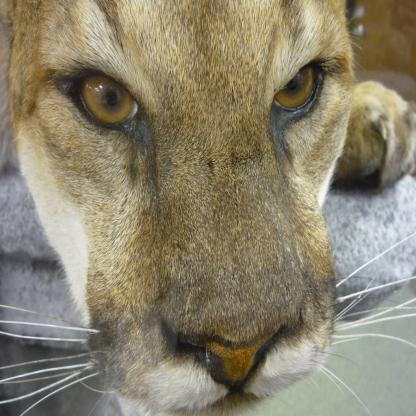lion: (0, 2, 359, 400)
